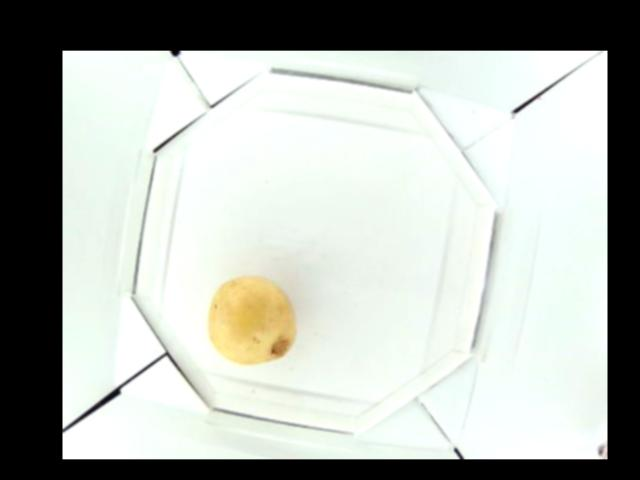Potato: (206, 275, 295, 365)
